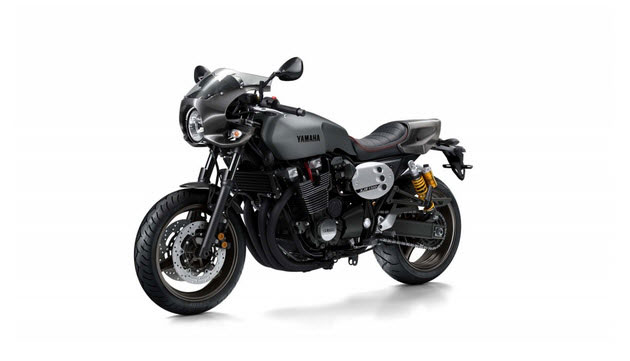motorcycle: (135, 62, 468, 314)
